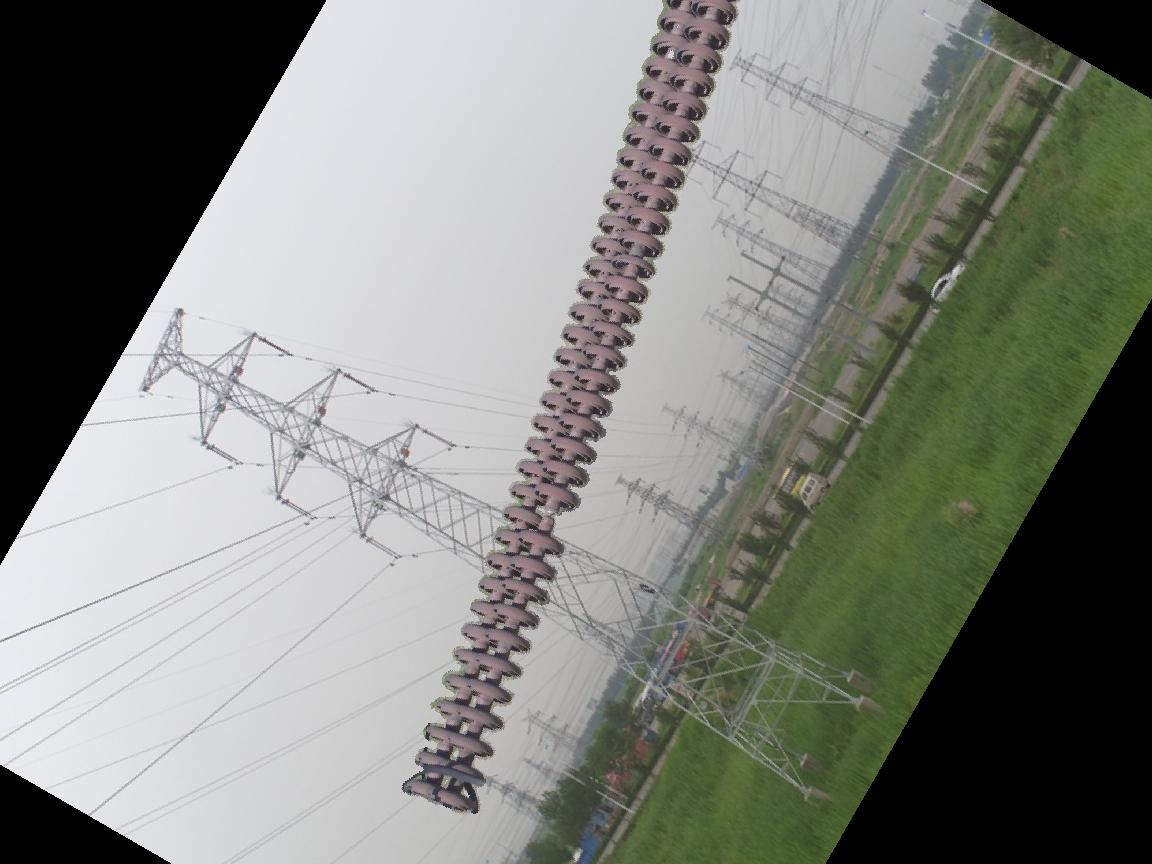insulator: (400, 1, 747, 816)
insulator_stringdrop: (517, 480, 583, 560)
